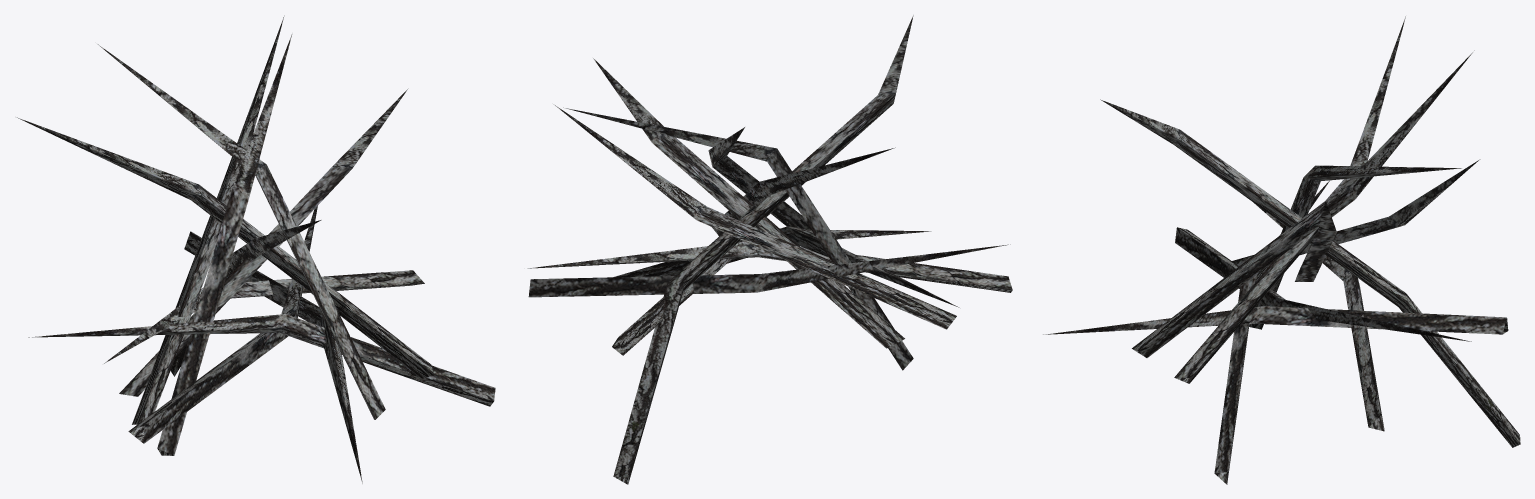
Rendered from Campfire_01_v01.obj.
3 renders of one model, left to right at view 1: azimuth 30°, elevation 25°; view 2: azimuth 150°, elevation 25°; view 3: azimuth 270°, elevation 25°, orthographic. The views are drawn at different scales.
Visible parts, largest first — view 1: polySurface24; view 2: polySurface24; view 3: polySurface24.
Part boxes in pixels (bbox=[...]): polySurface24: bbox=[16, 15, 495, 483]; polySurface24: bbox=[527, 15, 1012, 484]; polySurface24: bbox=[1043, 16, 1520, 484].
Size of the model in its own units: 11.43 by 9.79 by 12.06.
1 material, 1 textured.
